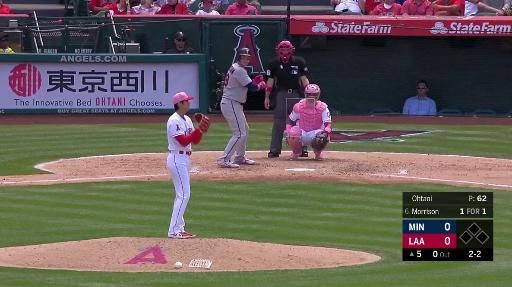pitcher: (167, 91, 209, 238)
